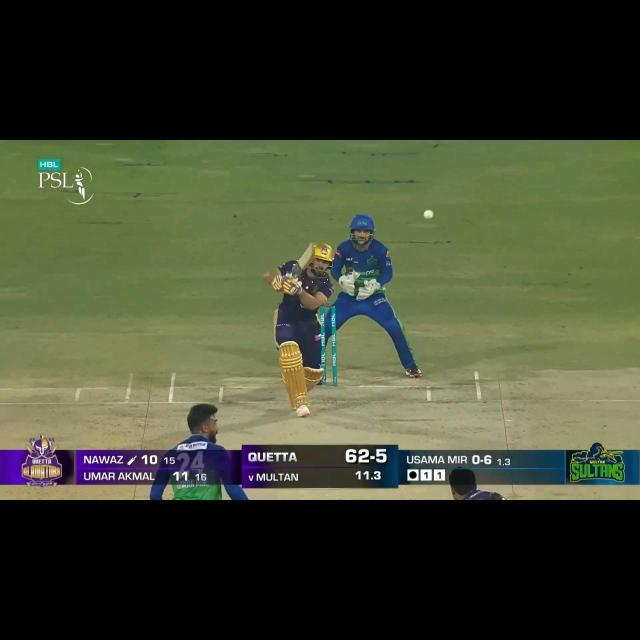bat: (288, 244, 315, 278)
toe: (311, 242, 315, 255)
